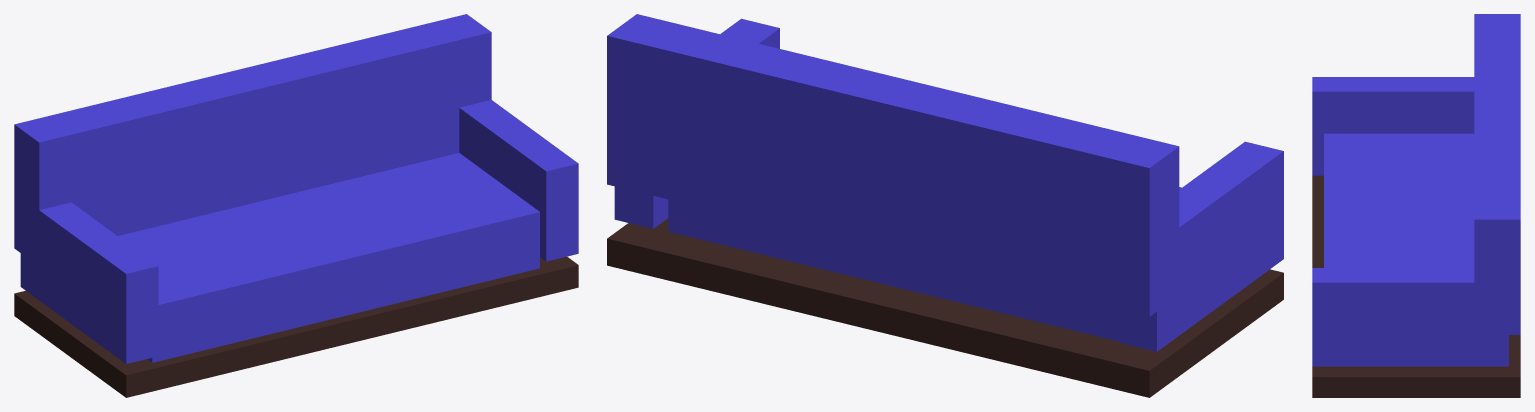
File: sofa.glb
The picture shows the model from 3 angles, left to right: view 1: azimuth 30°, elevation 25°; view 2: azimuth 150°, elevation 25°; view 3: azimuth 270°, elevation 25°; orthographic projection. The views are drawn at different scales.
Parts seen in each view (by area): view 1: ModernSofa; view 2: ModernSofa; view 3: ModernSofa.
Part boxes in pixels (x1,y1,x2,y2): ModernSofa: (14, 14, 578, 397); ModernSofa: (607, 14, 1283, 397); ModernSofa: (1312, 14, 1520, 397).
Size of the model in its own units: 2.1 by 0.85 by 0.9.
